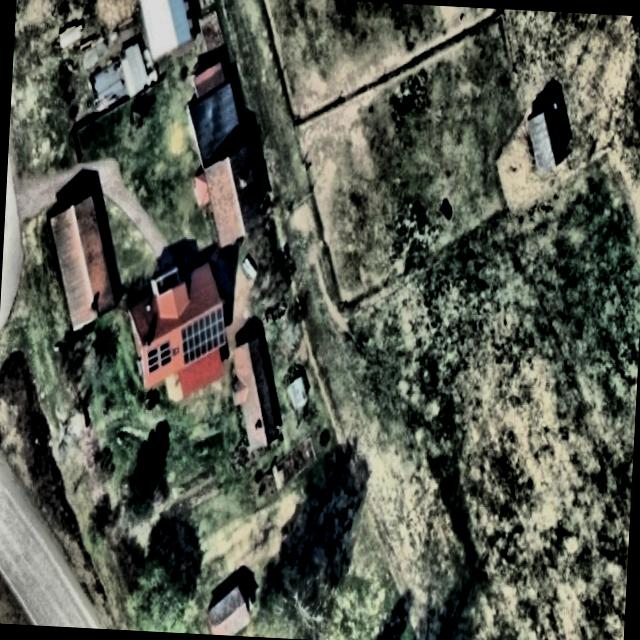roof_pv: (180, 302, 228, 371)
